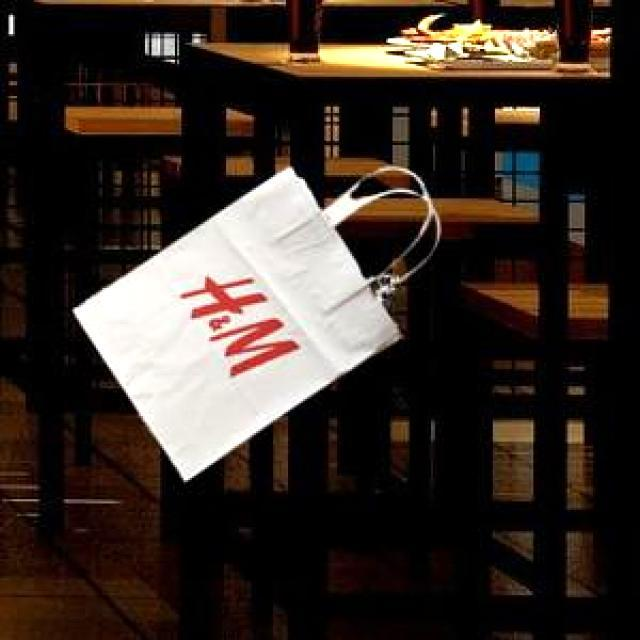Paper_Bag: (71, 165, 430, 477)
